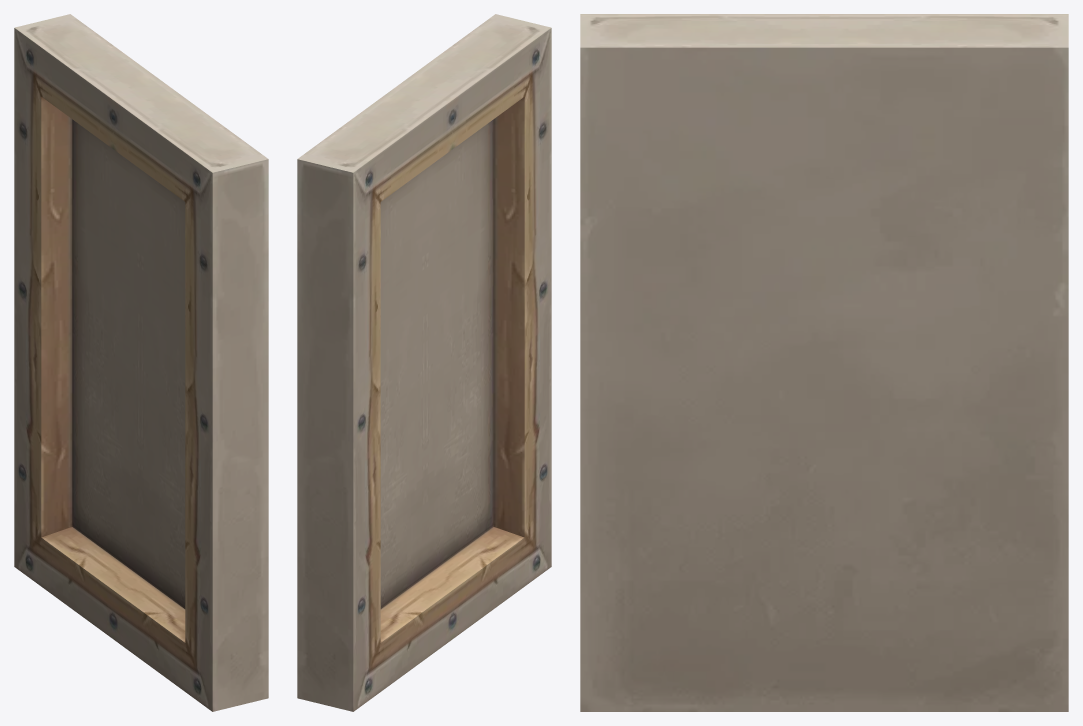
3 views of the same model, side by side, from view 1: azimuth 30°, elevation 25°; view 2: azimuth 150°, elevation 25°; view 3: azimuth 270°, elevation 25° (orthographic). The views are drawn at different scales.
Size of the model in its own units: 0.1629 by 1.49 by 0.9964.
1 material, 1 textured.
